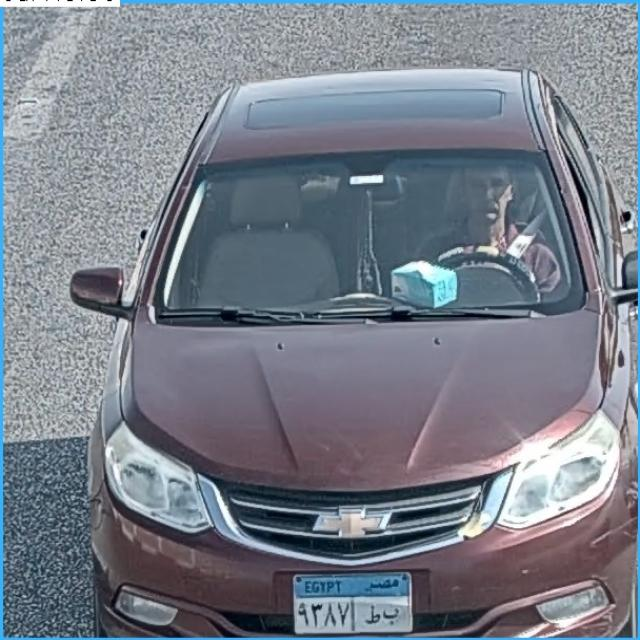windshield: (140, 158, 597, 316)
